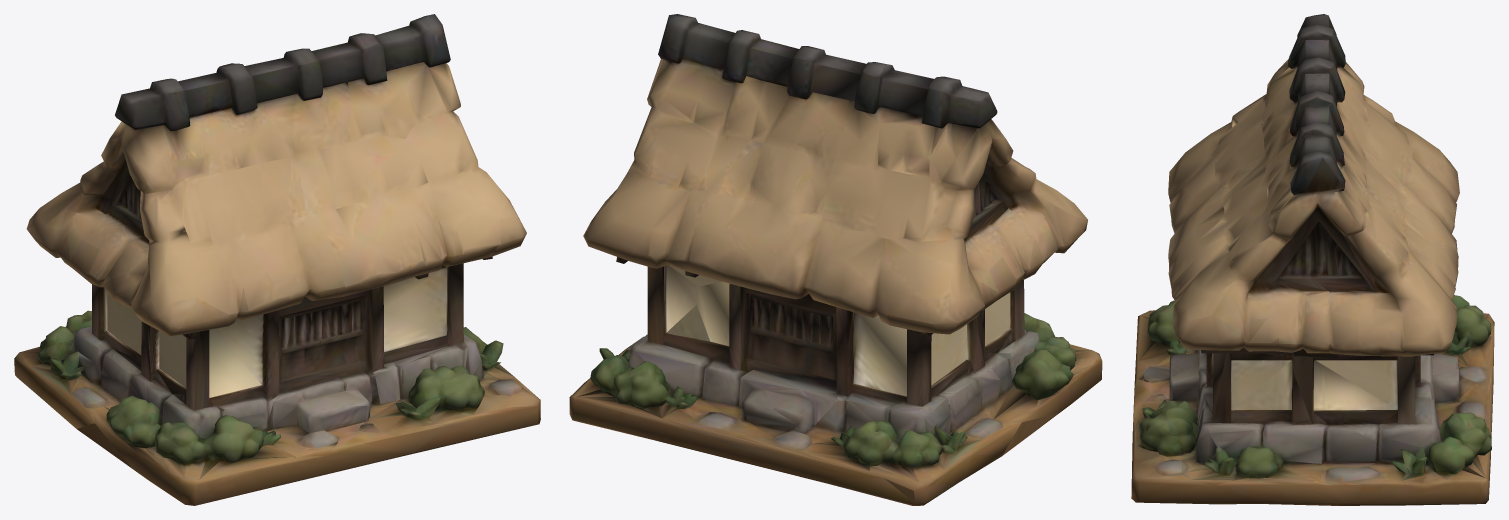
The model's file is house.glb.
3 renders of one model, left to right at view 1: azimuth 30°, elevation 25°; view 2: azimuth 150°, elevation 25°; view 3: azimuth 270°, elevation 25°, orthographic. The views are drawn at different scales.
Parts seen in each view (by area): view 1: tripo_node_e438c0b9-1b15-4098-a89c-57cb01488031; view 2: tripo_node_e438c0b9-1b15-4098-a89c-57cb01488031; view 3: tripo_node_e438c0b9-1b15-4098-a89c-57cb01488031.
Part boxes in pixels (x1,y1,x2,y2): tripo_node_e438c0b9-1b15-4098-a89c-57cb01488031: [14, 14, 540, 505]; tripo_node_e438c0b9-1b15-4098-a89c-57cb01488031: [569, 14, 1102, 505]; tripo_node_e438c0b9-1b15-4098-a89c-57cb01488031: [1131, 14, 1494, 505].
Bounding box in the file's own units: 0.9807 × 0.8296 × 0.8031.
1 material, 1 textured.
